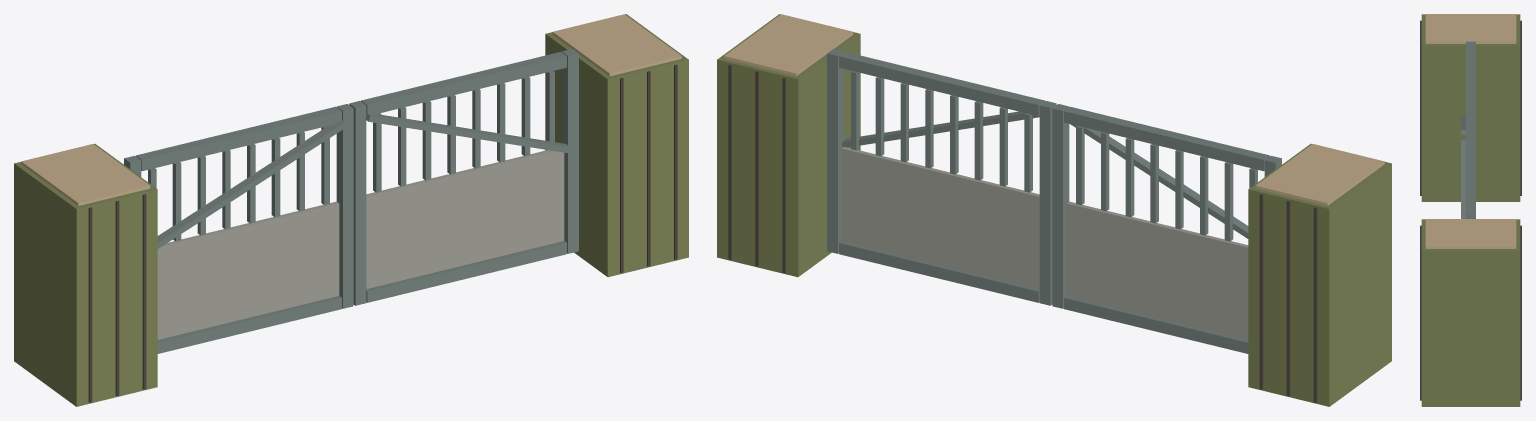
The model's file is SM_PuertaVia_v0_TuboChapa_e0_Sano_LOD0.fbx.
3 views of the same model, side by side, from view 1: azimuth 30°, elevation 25°; view 2: azimuth 150°, elevation 25°; view 3: azimuth 270°, elevation 25° (orthographic). The views are drawn at different scales.
Visible parts, largest first — view 1: SM_bloques.puerta_via_v0_LOD0, Hoja_E, Hoja_O; view 2: SM_bloques.puerta_via_v0_LOD0, Hoja_E, Hoja_O; view 3: SM_bloques.puerta_via_v0_LOD0, Hoja_E, Hoja_O.
Part boxes in pixels (x1,y1,x2,y2): SM_bloques.puerta_via_v0_LOD0: (14, 14, 688, 406); Hoja_E: (349, 49, 578, 305); Hoja_O: (124, 104, 353, 353); SM_bloques.puerta_via_v0_LOD0: (717, 14, 1391, 406); Hoja_E: (827, 49, 1056, 305); Hoja_O: (1052, 104, 1281, 353); SM_bloques.puerta_via_v0_LOD0: (1420, 14, 1521, 406); Hoja_E: (1461, 128, 1475, 218); Hoja_O: (1461, 41, 1475, 134).
Size of the model in its own units: 6.8 by 2.16 by 1.24.
